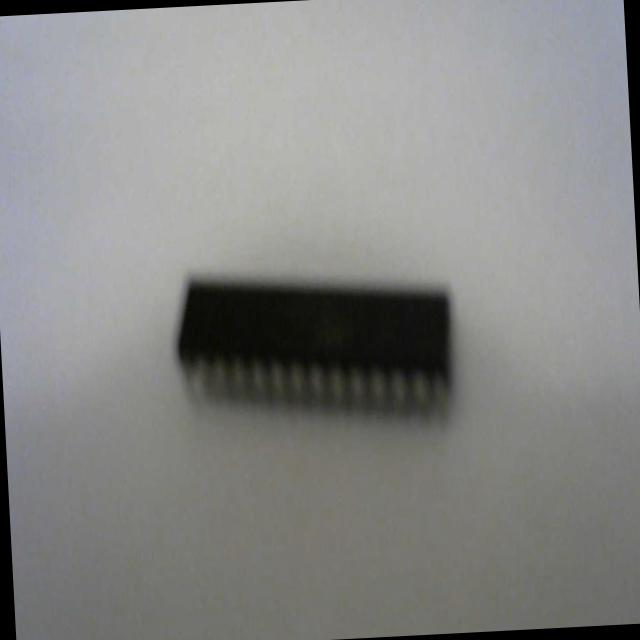atmega: (170, 256, 460, 434)
